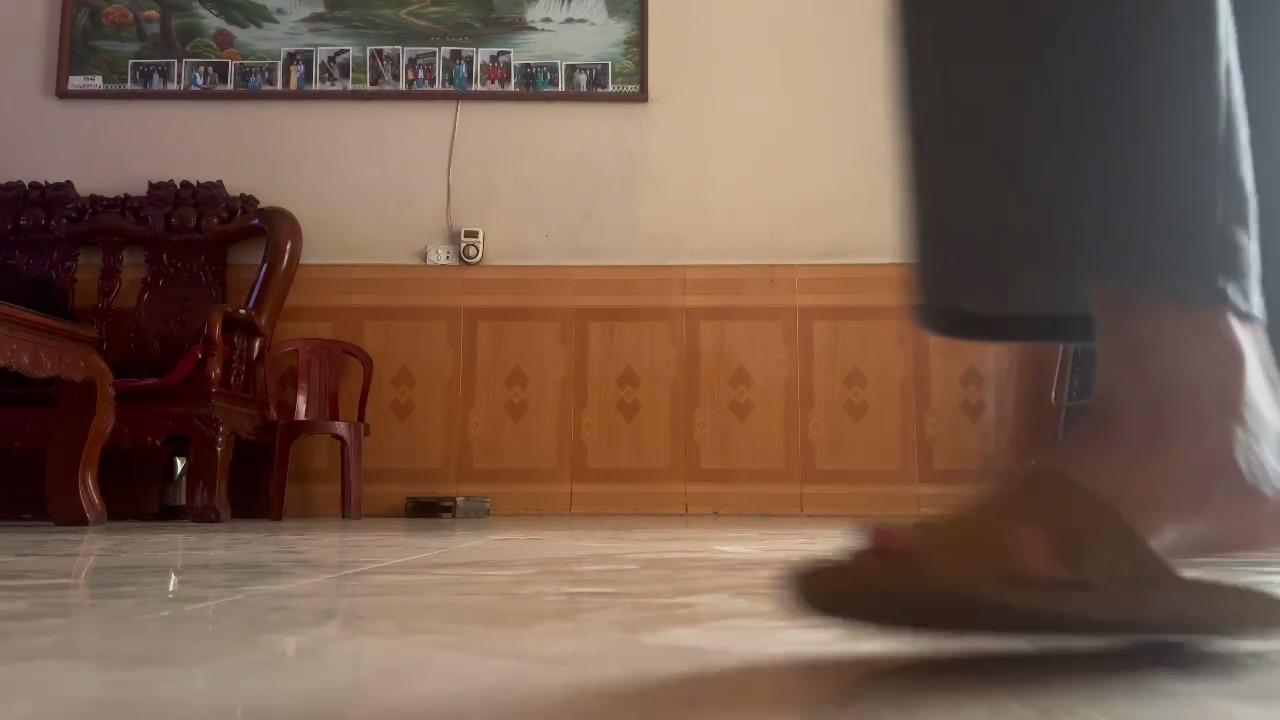no-boot: (780, 427, 1280, 669)
